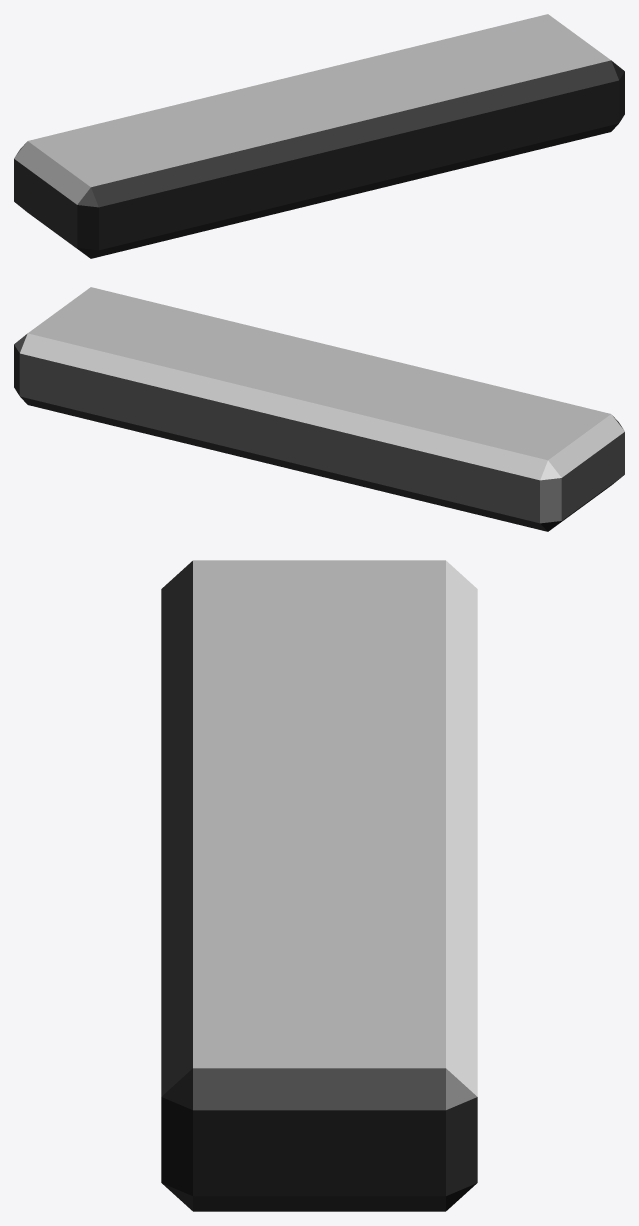
The model's file is paddle.obj.
3 views of the same model, one above another, from view 1: azimuth 30°, elevation 25°; view 2: azimuth 150°, elevation 25°; view 3: azimuth 270°, elevation 25° (orthographic). The views are drawn at different scales.
Parts seen in each view (by area): view 1: paddle; view 2: paddle; view 3: paddle.
Boxes of the visible parts, x1,y1,x2,y2 form: paddle: [14, 14, 624, 258]; paddle: [14, 287, 624, 531]; paddle: [161, 560, 477, 1211].
Bounding box in the file's own units: 2 × 0.25 × 0.5.
Materials: 2 (2 with a texture image).
